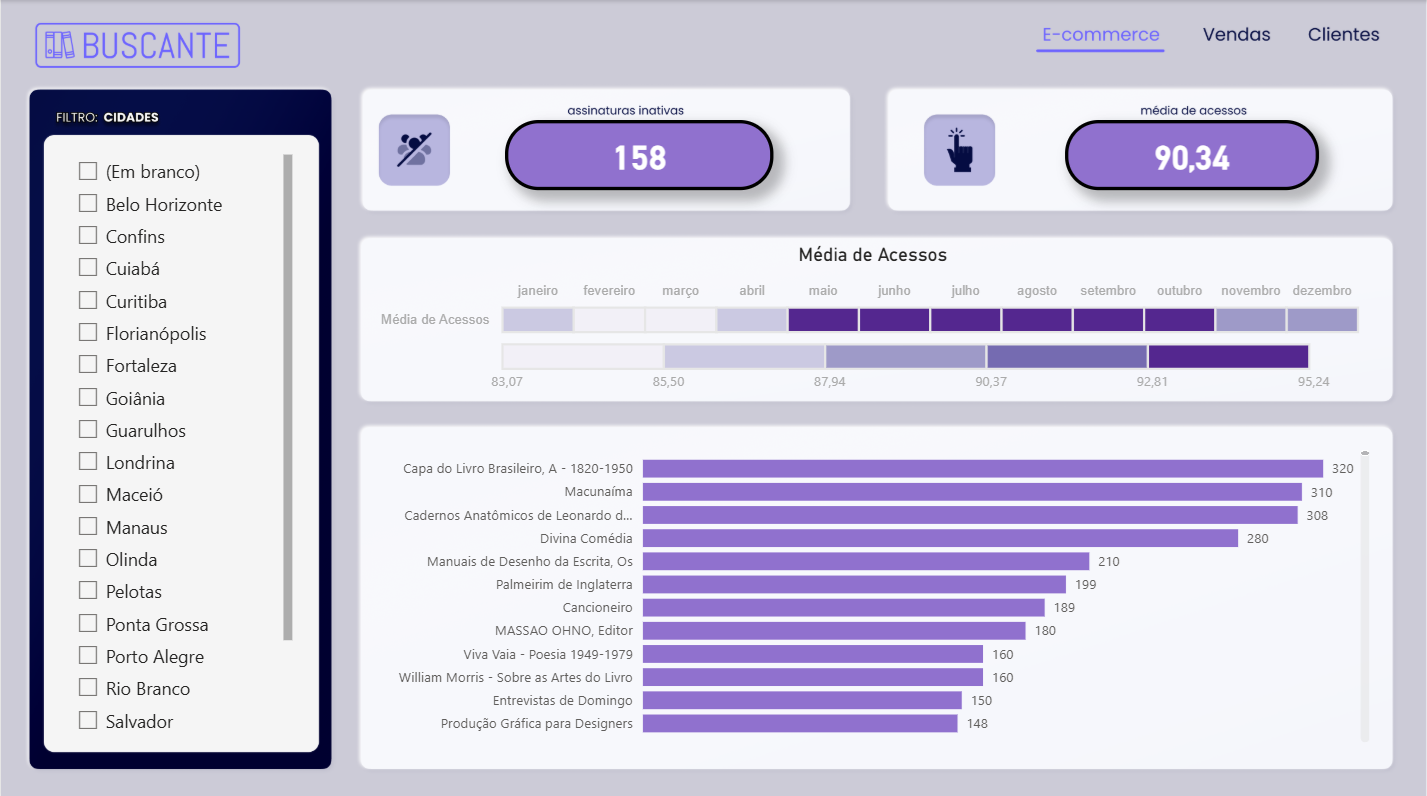

The page's visual inventory and layout, read from the dashboard file:
{"tool":"powerbi","page":{"name":"e-commerce","canvas":[1280,720],"ordinal":0},"visuals":[{"type":"slicer","fields":{"Values":["Clientes.Cidade"]},"box":[56.7,133.3,210,537.8],"z":0},{"type":"card","title":"Clientes","fields":{"Values":["CountNonNull(Clientes.Assinatura ativa)"]},"box":[452.2,107.8,241.1,63.3],"z":1000},{"type":"card","title":"Acessos na página","fields":{"Values":["Avg(Acessos na página.Acessos)"]},"box":[955.6,107.8,227.8,63.3],"z":2000},{"type":"TableHeatMap1443716069308","title":"Média de Acessos","fields":{"Y":["Avg(Acessos na página.Acessos)"],"Category":["Acessos na página.Data.Variation.Hierarquia de datas.Mês"]},"box":[332.2,217.8,901.1,164.4],"z":3000},{"type":"clusteredBarChart","fields":{"Y":["Sum(Catálogo livros.Valor)"],"Category":["Catálogo livros.Titulo"]},"box":[340,391.1,893.3,280],"z":4000},{"type":"actionButton","box":[1056.7,11.1,104.4,40],"z":5000},{"type":"actionButton","box":[1161.1,11.1,104.4,40],"z":6000}]}

Visuals, with their boxes in screenshot pixels (x1, y1, x2, y2), scaled from the page's 1280x720 canvas onto the 1427x796 screenshot:
slicer - Clientes.Cidade: <box>63,147,297,742</box>
"Clientes" card: <box>504,119,773,189</box>
"Acessos na página" card: <box>1065,119,1319,189</box>
"Média de Acessos" TableHeatMap1443716069308: <box>370,241,1375,423</box>
clusteredBarChart - Sum(Catálogo livros.Valor) x Catálogo livros.Titulo: <box>379,432,1375,742</box>
actionButton: <box>1178,12,1294,56</box>
actionButton: <box>1294,12,1411,56</box>
